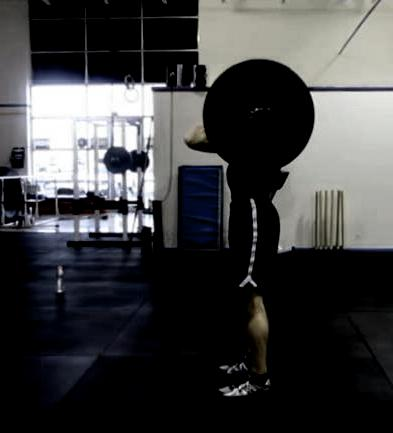Barbell: (253, 106, 274, 123)
